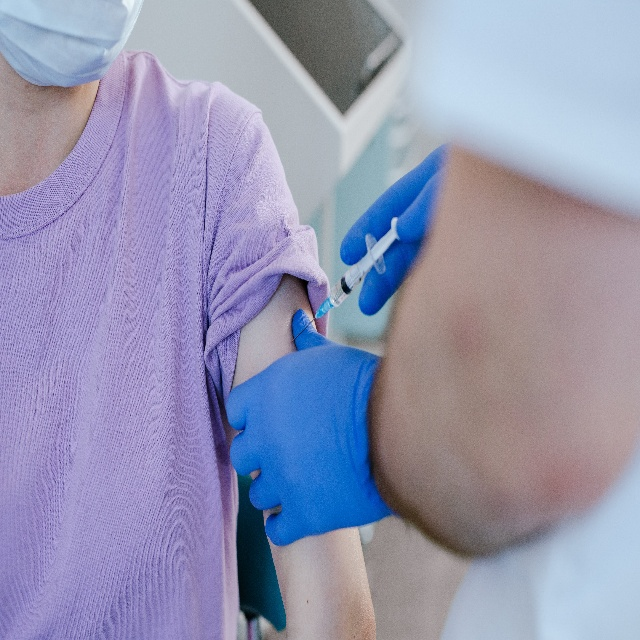Guantes: (225, 308, 404, 547), (339, 144, 452, 316)
Mascara: (0, 0, 152, 93)
